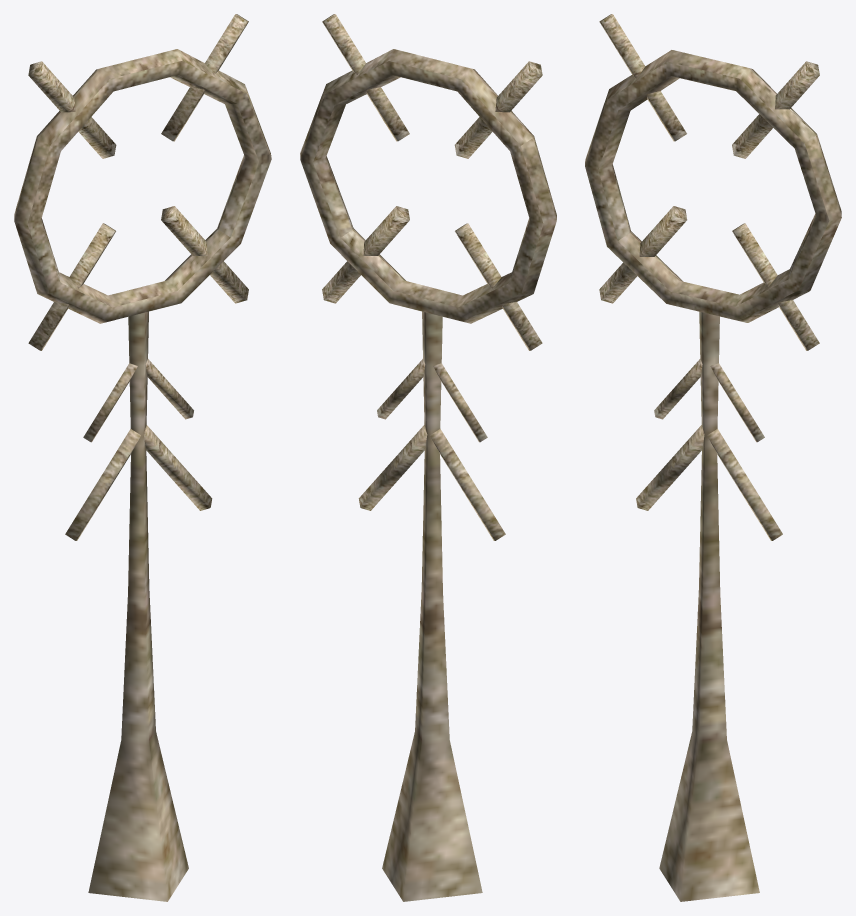
Rendered from ThraitSculpture.glb.
3 views of the same model, side by side, from view 1: azimuth 30°, elevation 25°; view 2: azimuth 150°, elevation 25°; view 3: azimuth 330°, elevation 25° (orthographic).
Visible parts, largest first — view 1: Cube, Torus, Cube_001, Cube_002; view 2: Cube, Torus, Cube_001, Cube_002; view 3: Cube, Torus, Cube_001, Cube_002.
Part boxes in pixels (left/top/right/bottom): Cube: left=88, top=311, right=188, bottom=901; Torus: left=14, top=49, right=271, bottom=323; Cube_001: left=28, top=14, right=248, bottom=350; Cube_002: left=65, top=359, right=212, bottom=540; Cube: left=382, top=311, right=482, bottom=901; Torus: left=300, top=49, right=556, bottom=323; Cube_001: left=322, top=14, right=542, bottom=350; Cube_002: left=358, top=359, right=505, bottom=540; Cube: left=659, top=311, right=759, bottom=901; Torus: left=585, top=50, right=841, bottom=322; Cube_001: left=599, top=14, right=819, bottom=350; Cube_002: left=636, top=359, right=782, bottom=540.
Bounding box in the file's own units: 2.31 × 7.26 × 0.9072.
2 materials, 2 textured.
